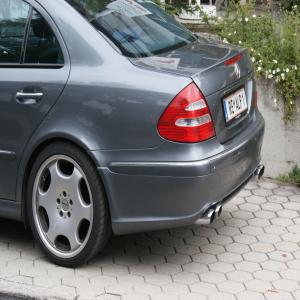Vehicle-registration-plate: (228, 81, 249, 124)
